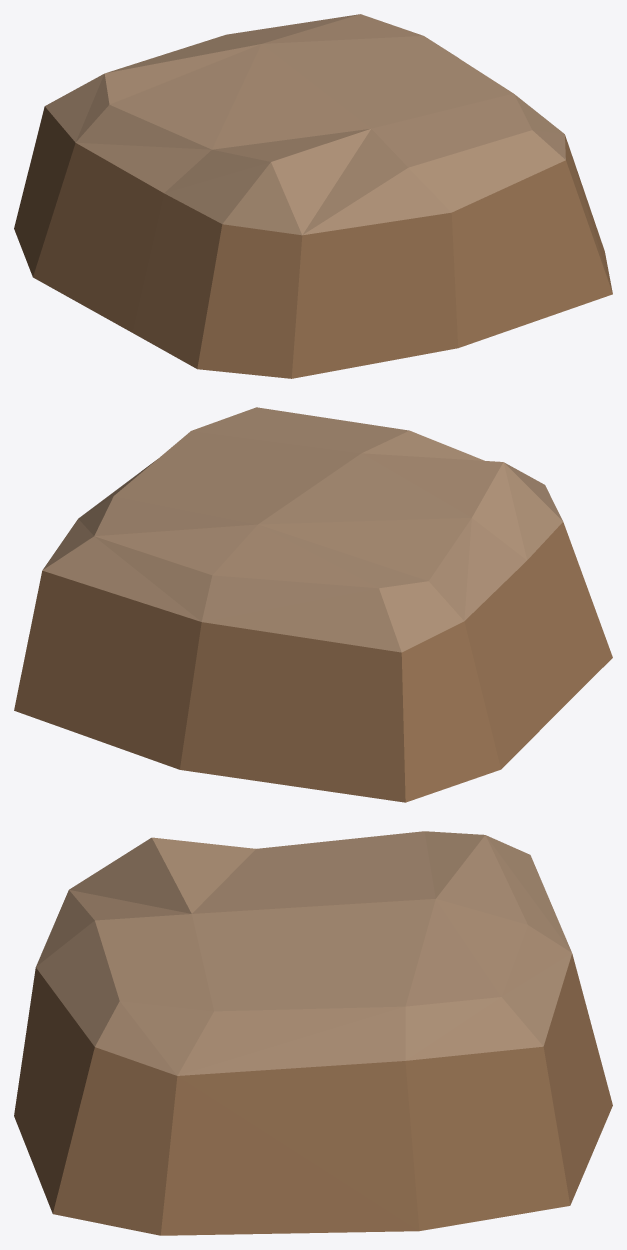
Rendered from TB_Env_Mound_Small_C.FBX.
The picture shows the model from 3 angles, top to bottom: view 1: azimuth 30°, elevation 25°; view 2: azimuth 150°, elevation 25°; view 3: azimuth 270°, elevation 25°; orthographic projection. The views are drawn at different scales.
Visible parts, largest first — view 1: TB_Env_Mound_Small_C; view 2: TB_Env_Mound_Small_C; view 3: TB_Env_Mound_Small_C.
Boxes of the visible parts, bbox=[...] form: TB_Env_Mound_Small_C: bbox=[14, 14, 612, 378]; TB_Env_Mound_Small_C: bbox=[14, 407, 612, 802]; TB_Env_Mound_Small_C: bbox=[14, 831, 612, 1235].
Size of the model in its own units: 13.58 by 5.04 by 13.18.
